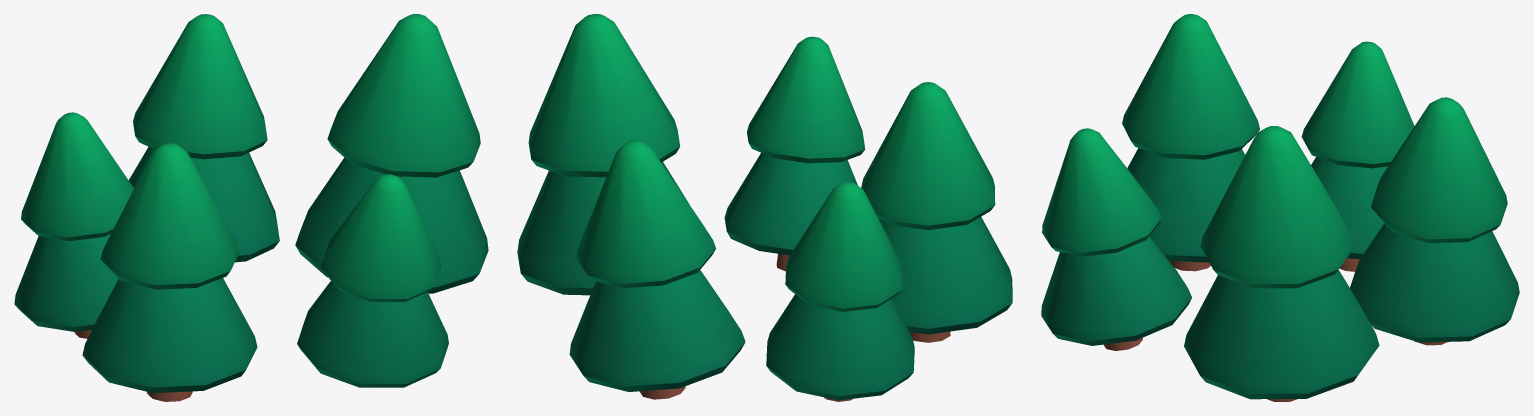
File: trees-b-m.glb
3 views of the same model, side by side, from view 1: azimuth 30°, elevation 25°; view 2: azimuth 150°, elevation 25°; view 3: azimuth 270°, elevation 25° (orthographic).
Parts seen in each view (by area): view 1: trees_B_medium; view 2: trees_B_medium; view 3: trees_B_medium.
Part boxes in pixels (<box>): trees_B_medium: <box>14,14,488,401</box>; trees_B_medium: <box>517,14,1012,401</box>; trees_B_medium: <box>1041,14,1519,401</box>.
Bounding box in the file's own units: 1.86 × 1.17 × 1.83.
Materials: 1 (1 with a texture image).
